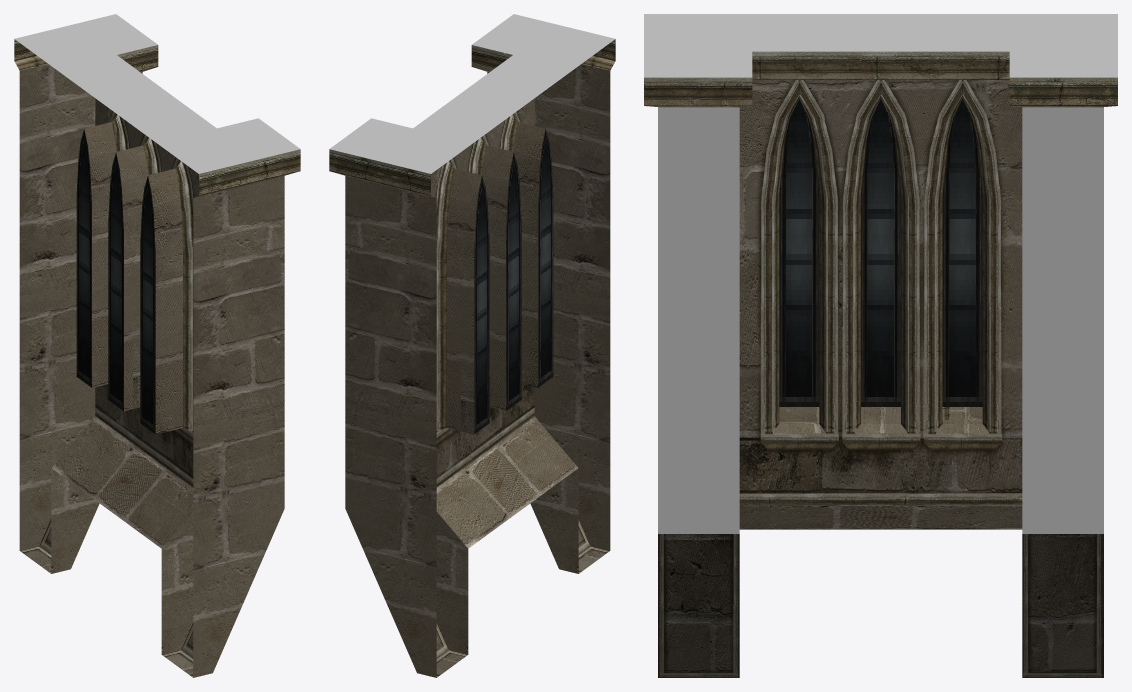
File: SM_Tower_WindowDetail_03.FBX
3 views of the same model, side by side, from view 1: azimuth 30°, elevation 25°; view 2: azimuth 150°, elevation 25°; view 3: azimuth 270°, elevation 25° (orthographic). The views are drawn at different scales.
Parts seen in each view (by area): view 1: SM_Tower_WindowDetail_03; view 2: SM_Tower_WindowDetail_03; view 3: SM_Tower_WindowDetail_03.
Boxes of the visible parts, bbox=[...] form: SM_Tower_WindowDetail_03: bbox=[14, 14, 300, 677]; SM_Tower_WindowDetail_03: bbox=[329, 14, 615, 677]; SM_Tower_WindowDetail_03: bbox=[644, 14, 1117, 677].
Size of what is drawn, in the model's own units: 157 by 493 by 748.
